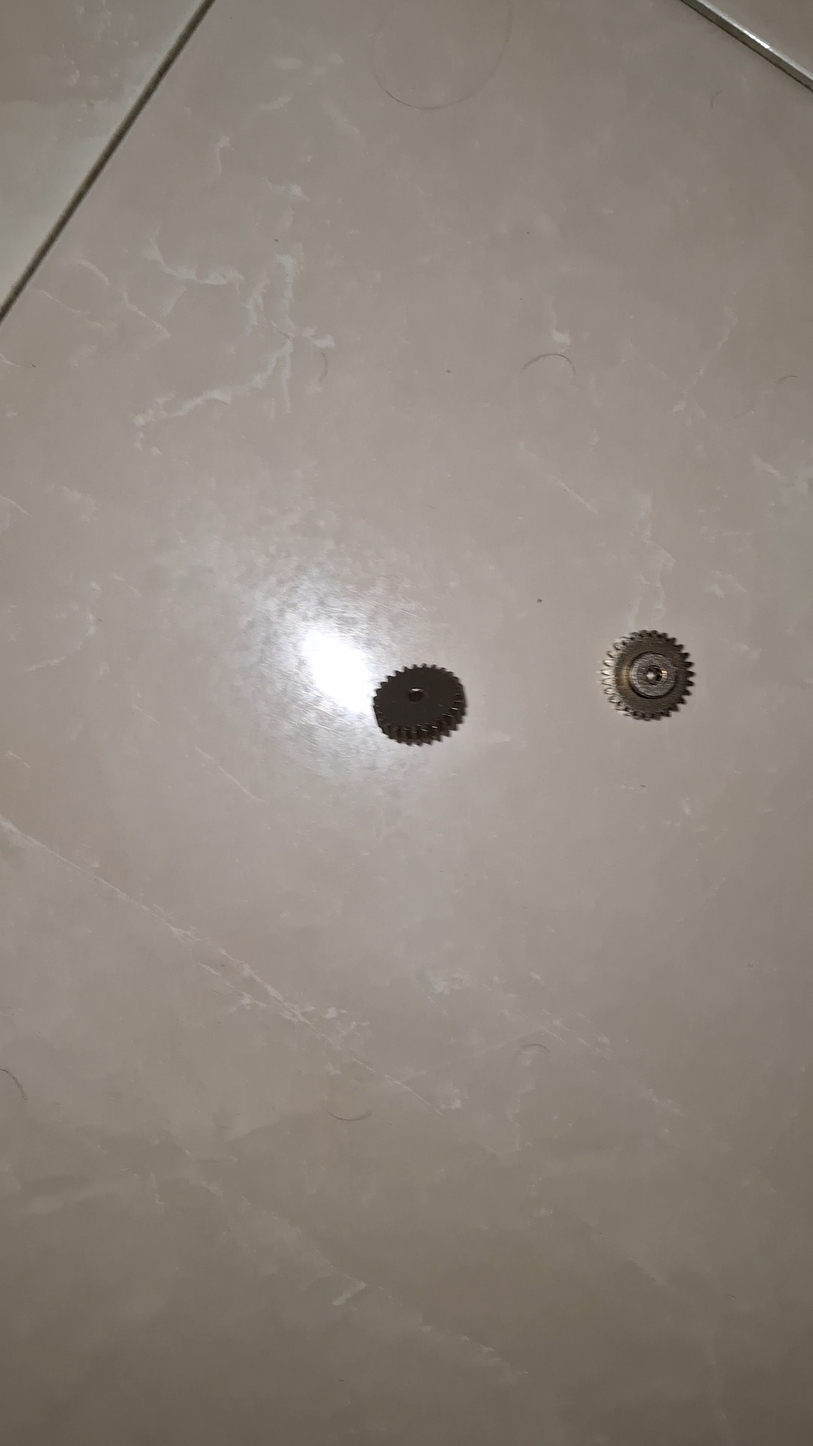spur gear: (602, 631, 693, 719), (373, 665, 465, 744)
